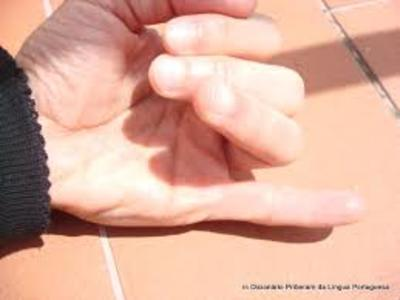closedhandfront: (35, 1, 304, 283)
mindinho: (230, 174, 380, 240)
